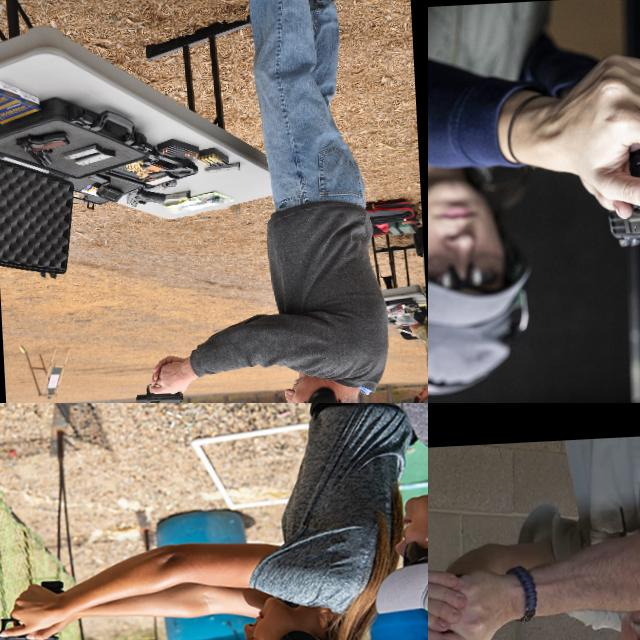handgun: (601, 136, 640, 252), (0, 613, 60, 640), (131, 380, 184, 403)
